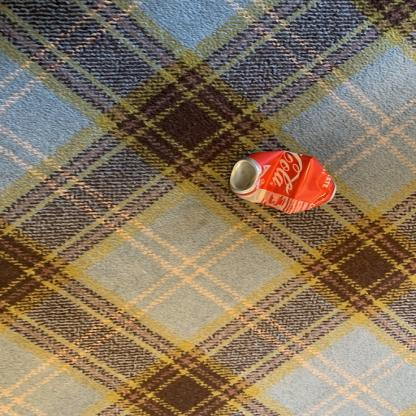Aerosols: (221, 150, 361, 217)
